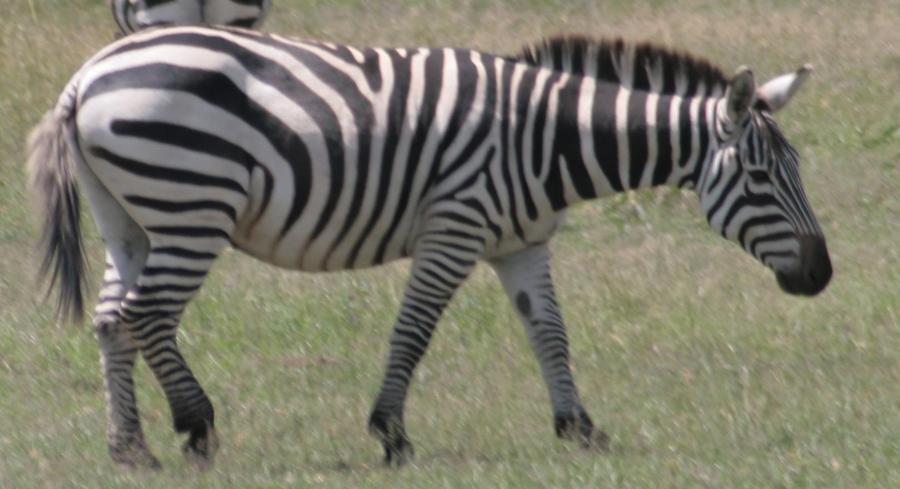zebra_plains: (85, 2, 574, 300)
